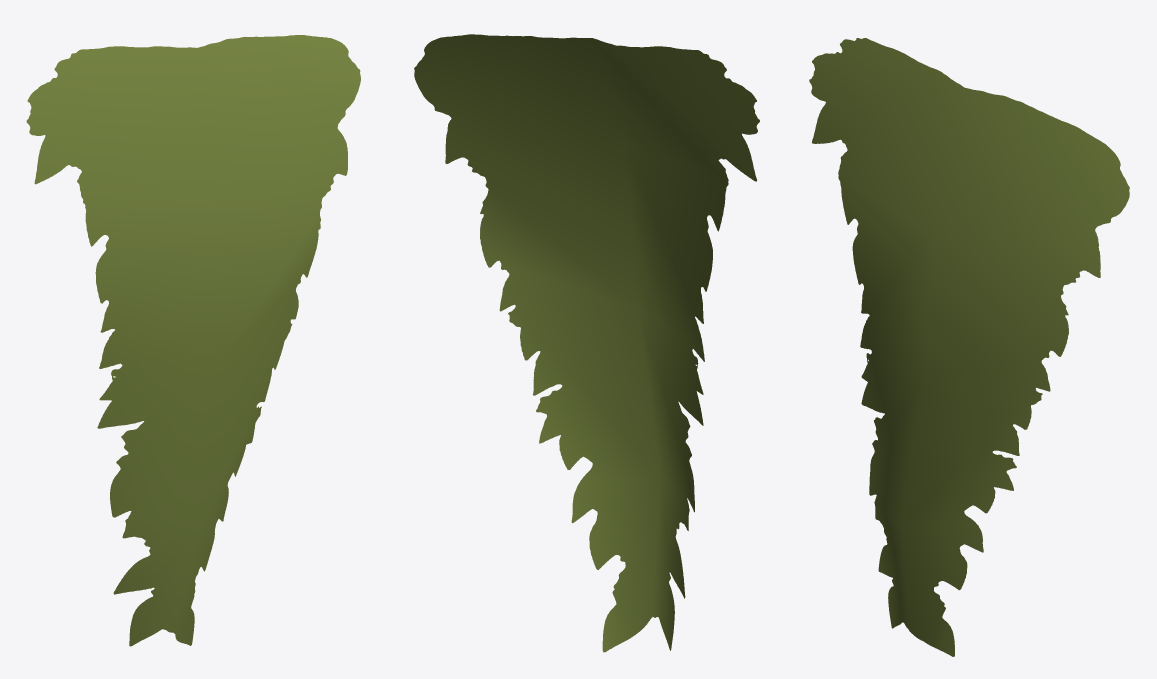
The model's file is Vines_01.fbx.
3 views of the same model, side by side, from view 1: azimuth 30°, elevation 25°; view 2: azimuth 150°, elevation 25°; view 3: azimuth 330°, elevation 25° (orthographic). The views are drawn at different scales.
Visible parts, largest first — view 1: Vines_01; view 2: Vines_01; view 3: Vines_01.
Boxes of the visible parts, x1,y1,x2,y2 form: Vines_01: [26, 35, 360, 646]; Vines_01: [414, 34, 759, 652]; Vines_01: [809, 38, 1129, 656].
Bounding box in the file's own units: 108 × 184 × 22.26.
